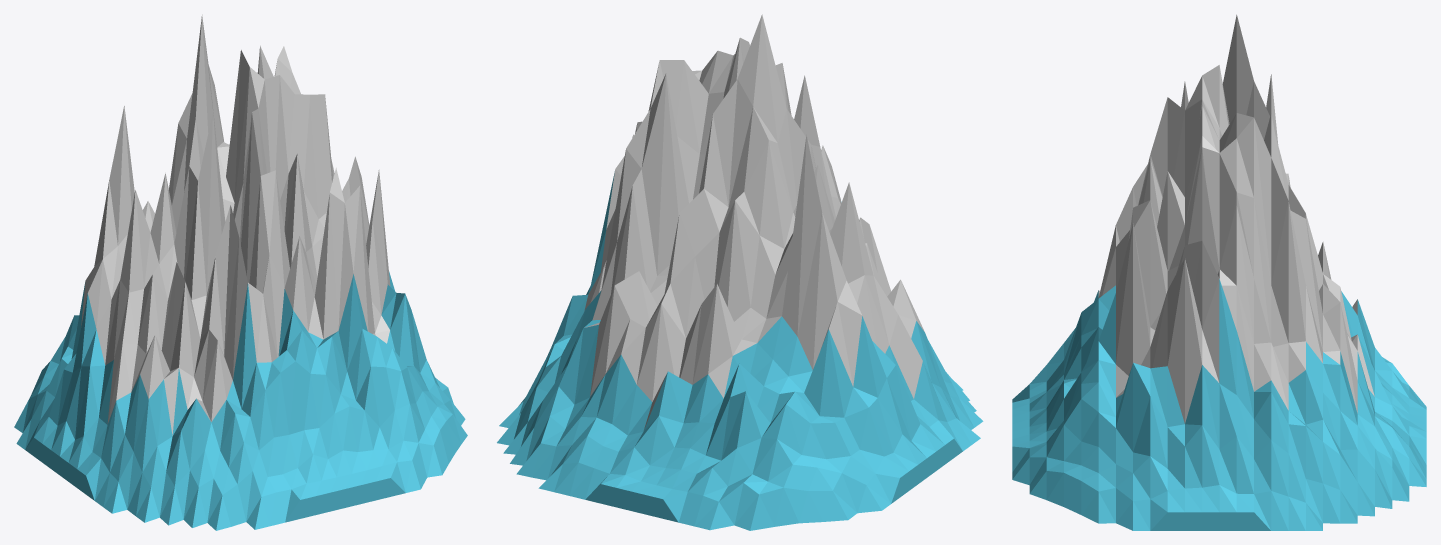
File: IceMountain6.fbx
3 renders of one model, left to right at view 1: azimuth 30°, elevation 25°; view 2: azimuth 150°, elevation 25°; view 3: azimuth 270°, elevation 25°, orthographic. The views are drawn at different scales.
Parts seen in each view (by area): view 1: Landscape.001; view 2: Landscape.001; view 3: Landscape.001.
Part boxes in pixels (x1,y1,x2,y2): Landscape.001: (14,14,467,530); Landscape.001: (497,14,983,530); Landscape.001: (1012,14,1426,530).
Size of the model in its own units: 2000 by 2208 by 2000.
